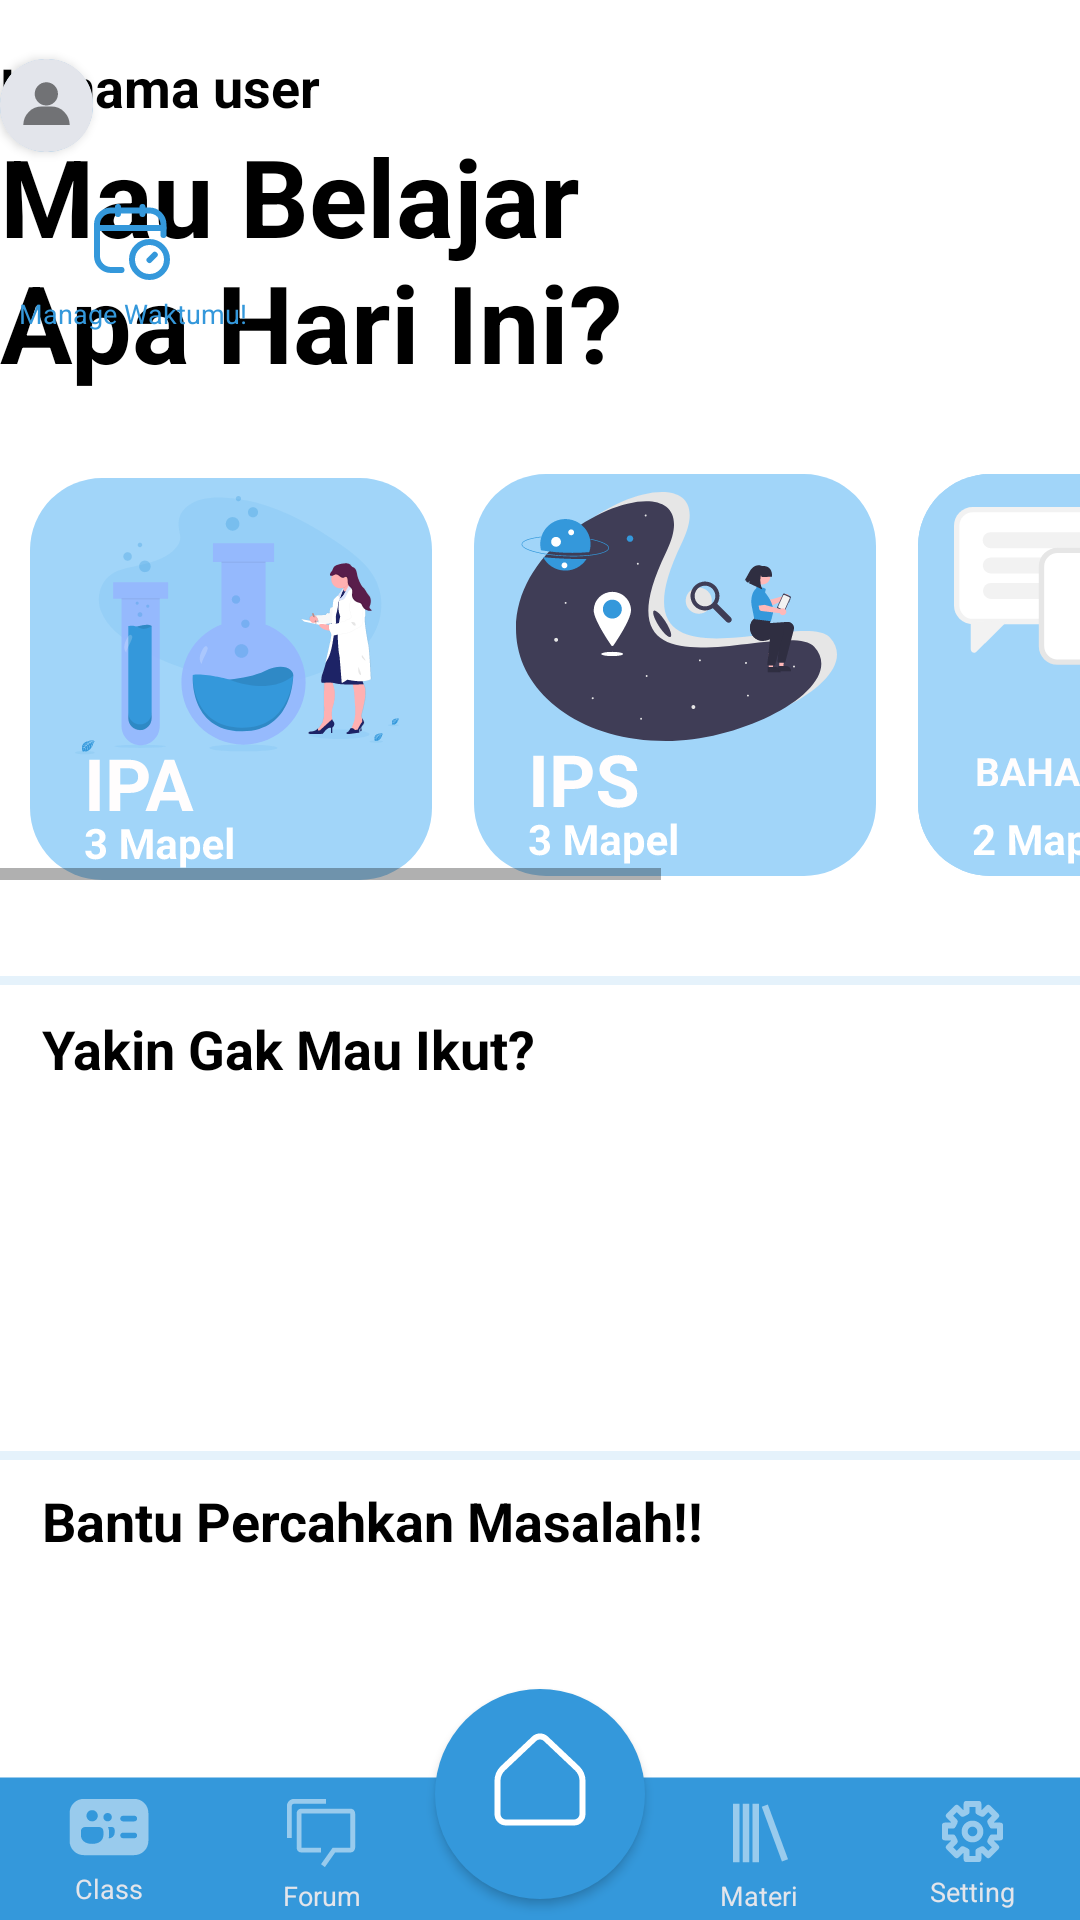

Where to tap for icons on this 1080x1920 app screen, as [x,y]:
home round: [540,1794]
photo profile: [46,105]
